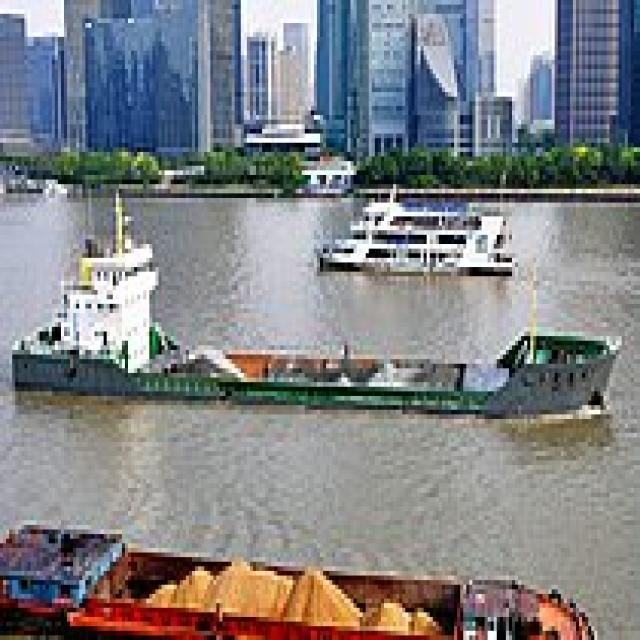Cargo: (6, 180, 622, 414)
